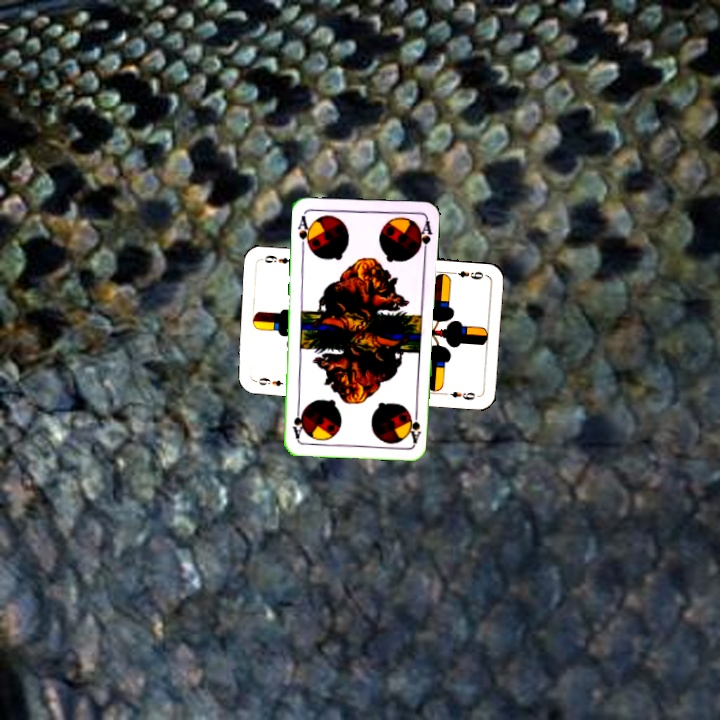E9: (250, 373, 291, 389), (447, 267, 486, 282)
SA: (294, 211, 314, 252), (406, 404, 423, 445)
